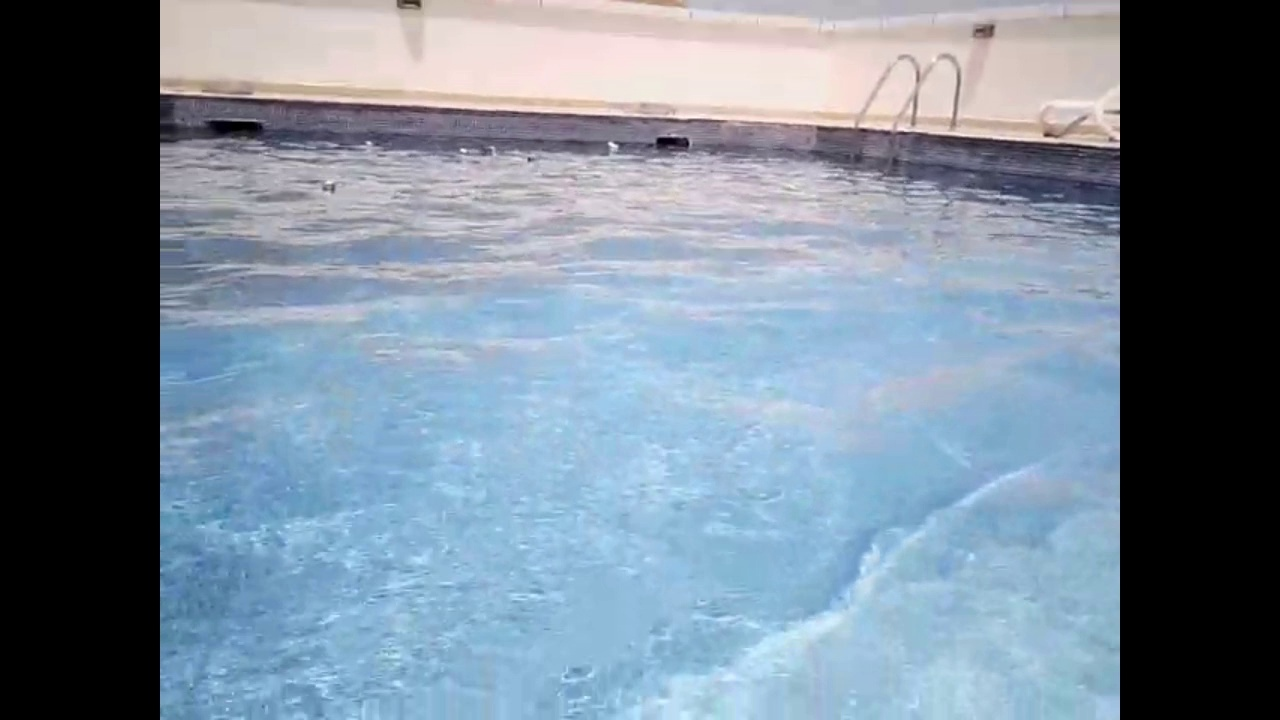debris: (317, 176, 339, 196)
